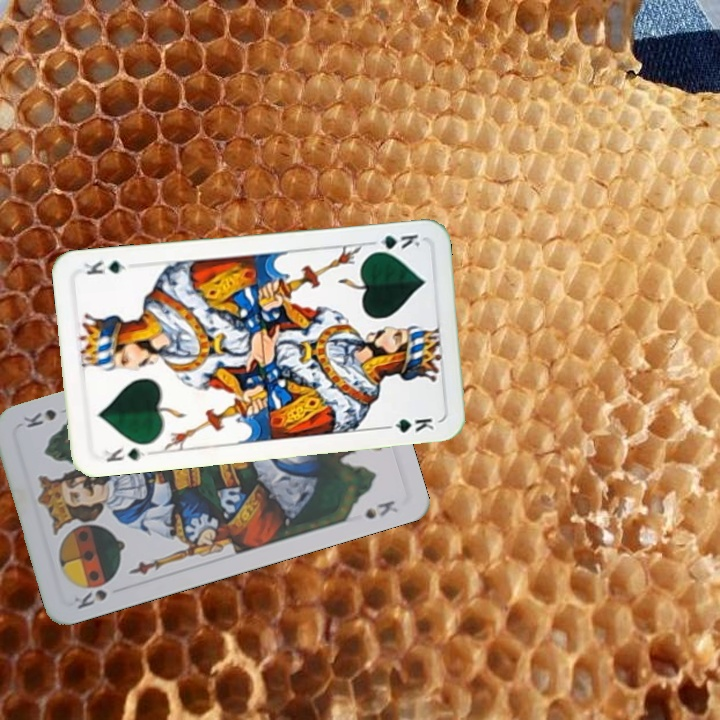GK: (365, 230, 423, 256), (100, 444, 147, 465)
SK: (70, 585, 110, 612)
